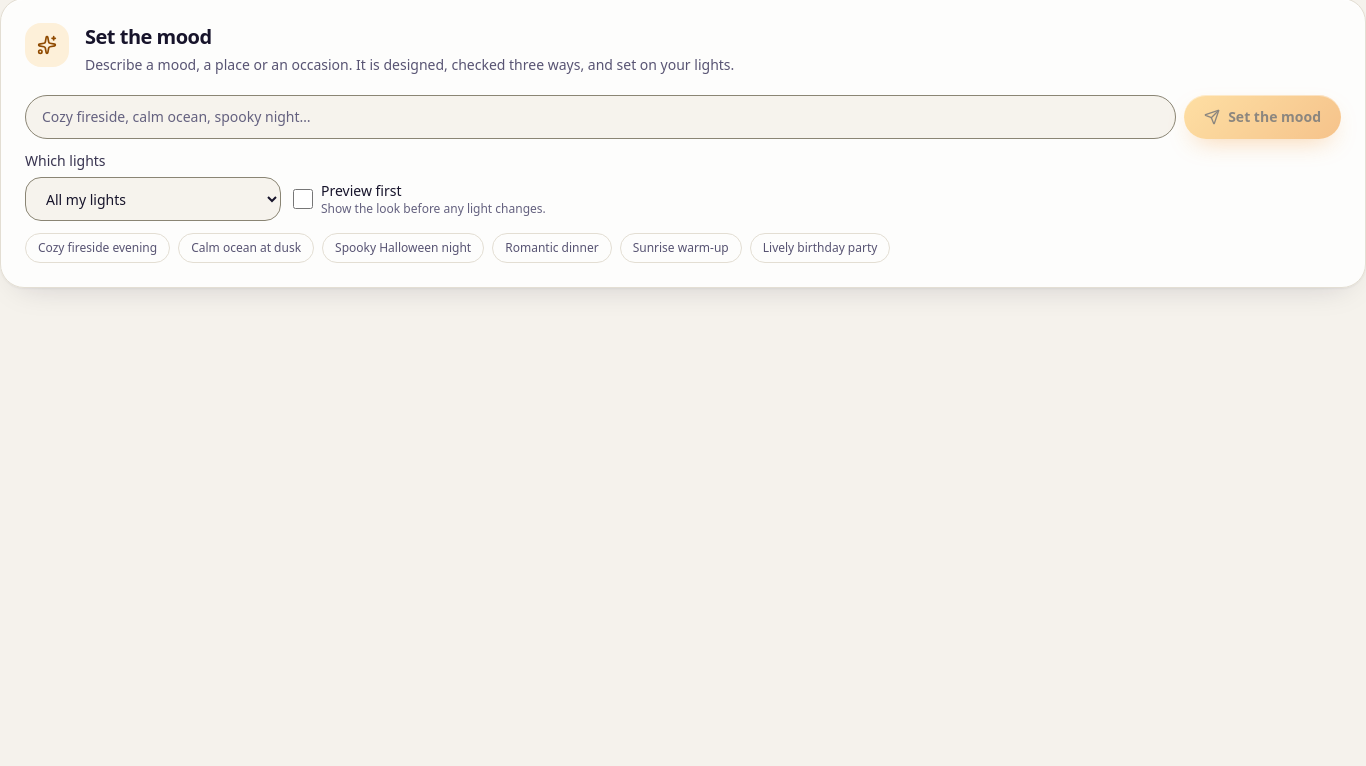
Scenario: Set the mood: the box › holds a look that did not pass every check, says why, and sets it only when asked
Type "cozy fireside evening" into the field named "Describe the mood" at (601, 117), box [25,95,1176,139]
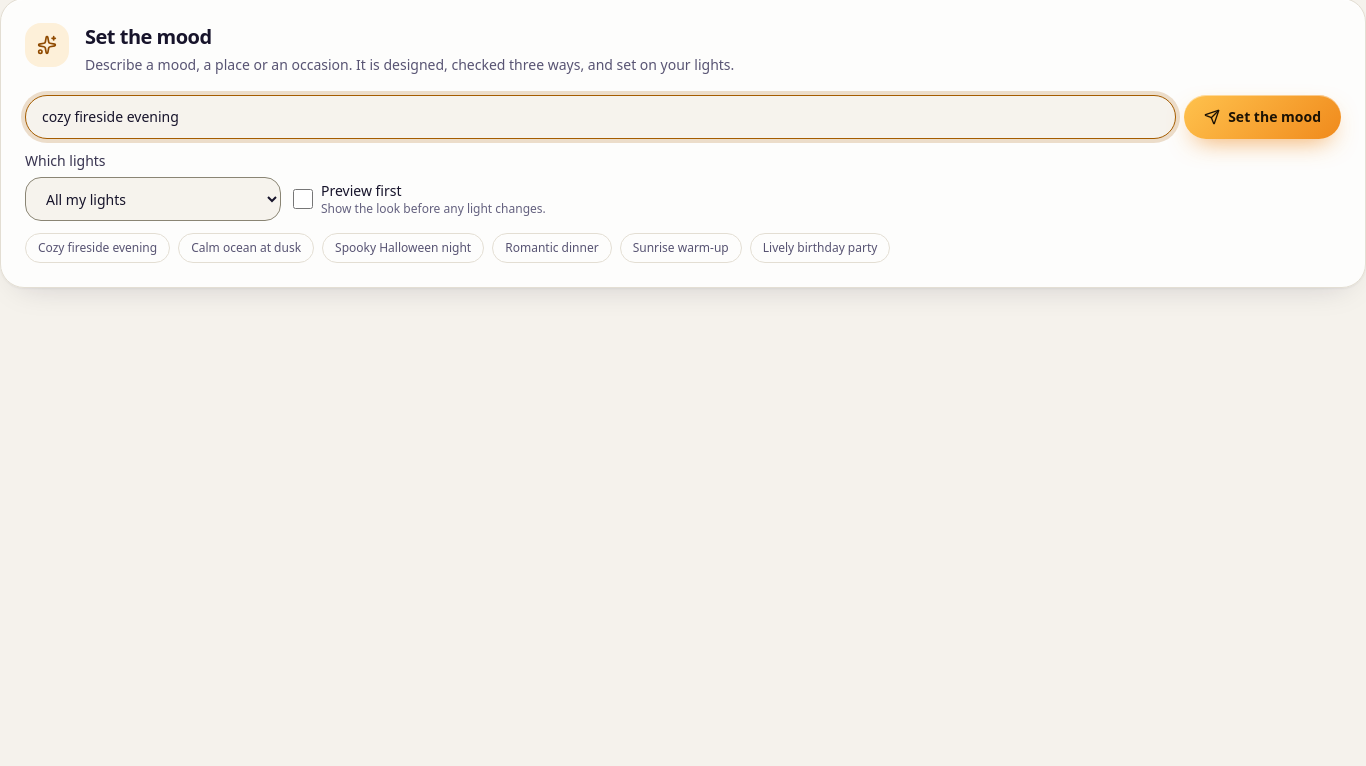
Click the button "Set the mood" at (1263, 117), box [1184,95,1341,139]
(page scrolled)
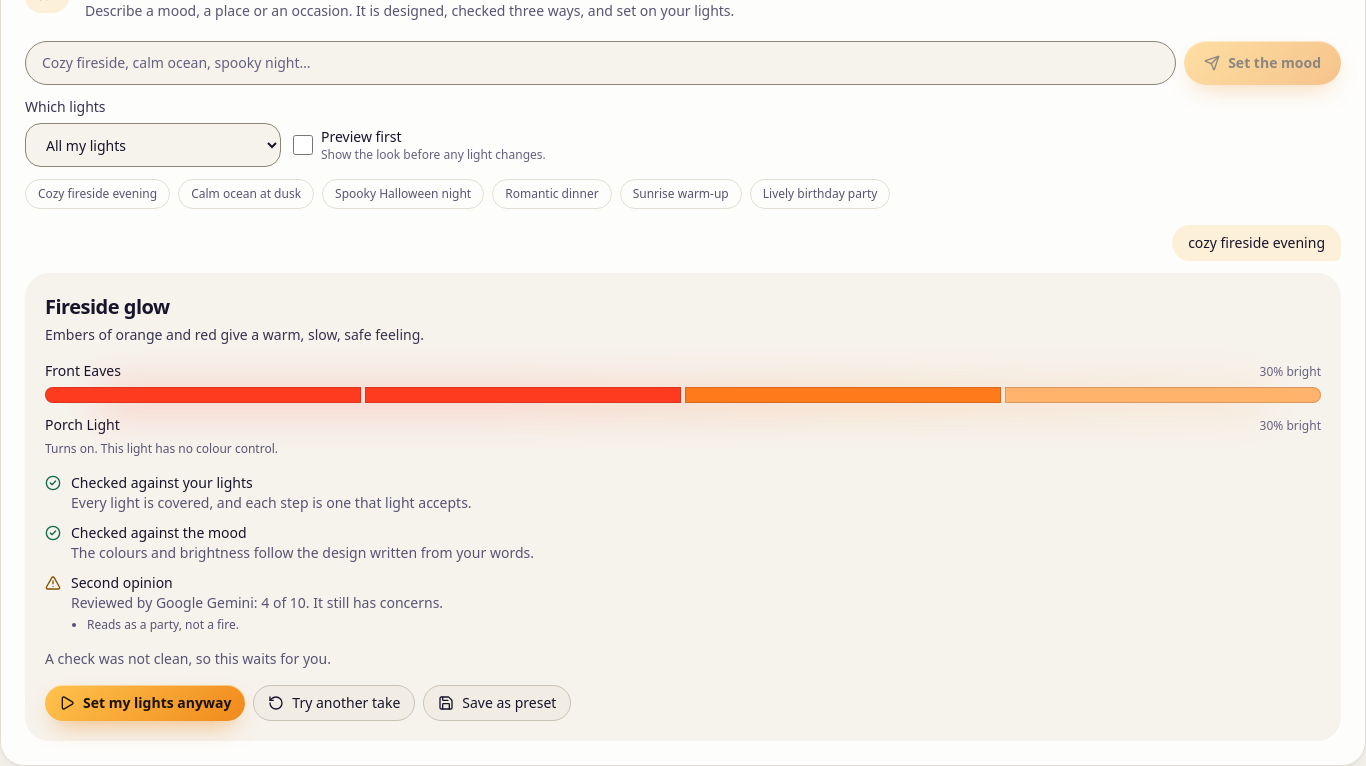
Now the text "A check was not clean, so this waits for you." is shown, box [45,649,331,668]
Now the text "Reviewed by Google Gemini: 4 of 10. It still has concerns." is shown, box [71,593,443,613]
Now the list item "Reads as a party, not a fire." is shown, box [87,616,239,633]
Click the button "Set my lights anyway" at (145, 703), box [45,685,245,721]
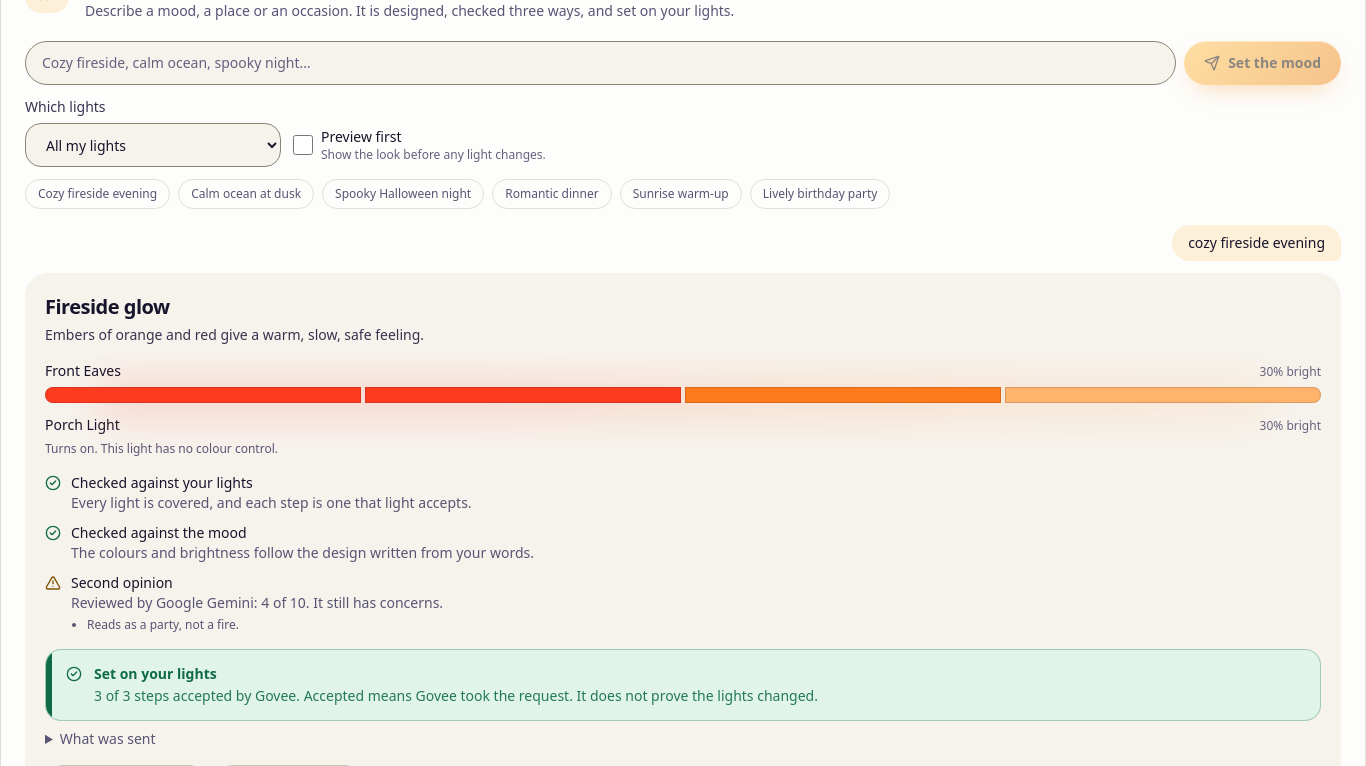
Now the text "Set on your lights" is shown, box [94,664,217,683]
